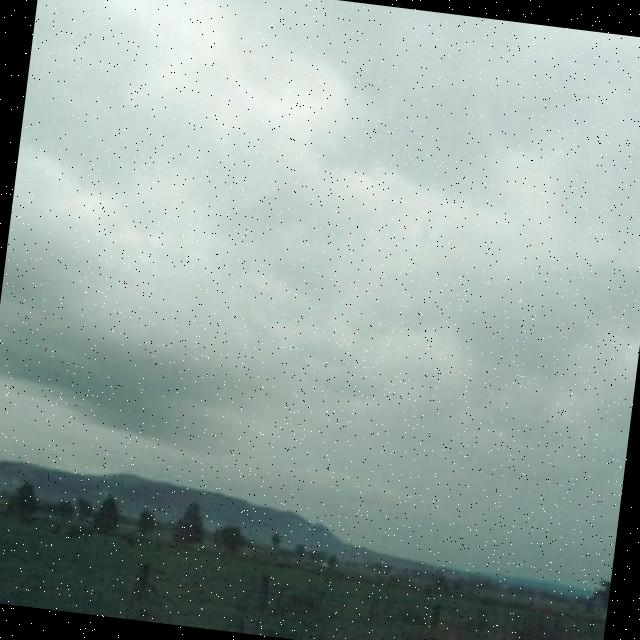Ns: (1, 1, 640, 475)
